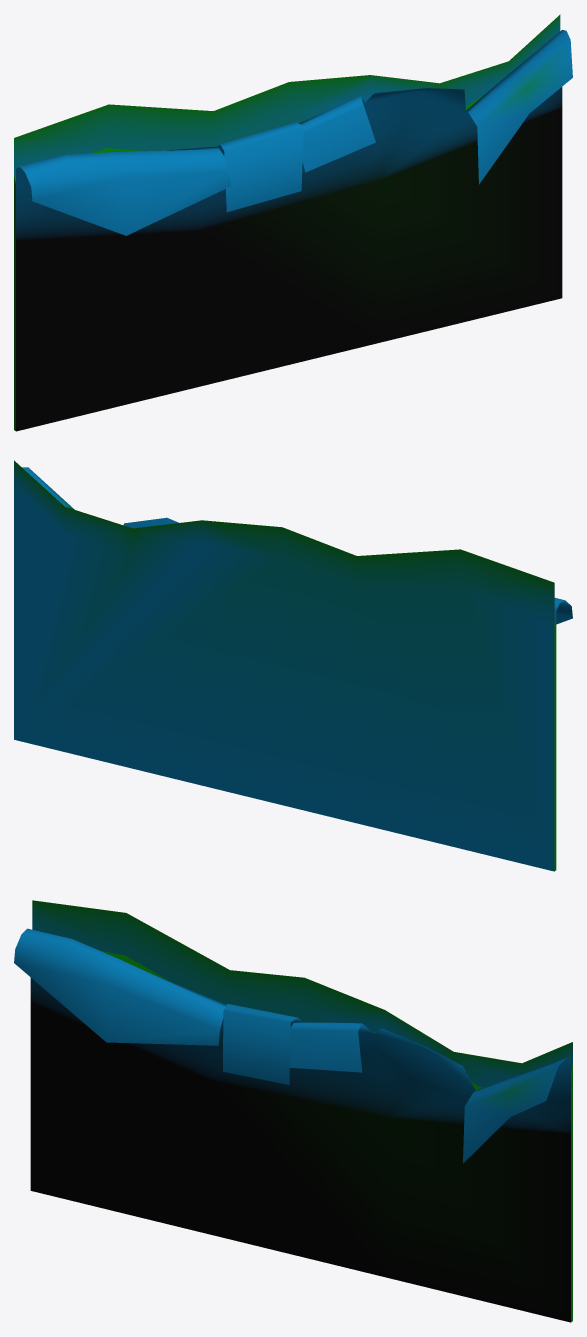
The model's file is DBK_Drywall_Tile_C_Single.fbx.
The picture shows the model from 3 angles, top to bottom: view 1: azimuth 30°, elevation 25°; view 2: azimuth 150°, elevation 25°; view 3: azimuth 330°, elevation 25°; orthographic projection.
Parts seen in each view (by area): view 1: DBK_Drywall_Tile_C_Single; view 2: DBK_Drywall_Tile_C_Single; view 3: DBK_Drywall_Tile_C_Single.
Part boxes in pixels (x1=…): DBK_Drywall_Tile_C_Single: x1=14, y1=14, x2=572, y2=431; DBK_Drywall_Tile_C_Single: x1=14, y1=460, x2=572, y2=871; DBK_Drywall_Tile_C_Single: x1=14, y1=900, x2=572, y2=1322.
Size of what is drawn, in the model's own units: 300 by 159 by 18.99.
